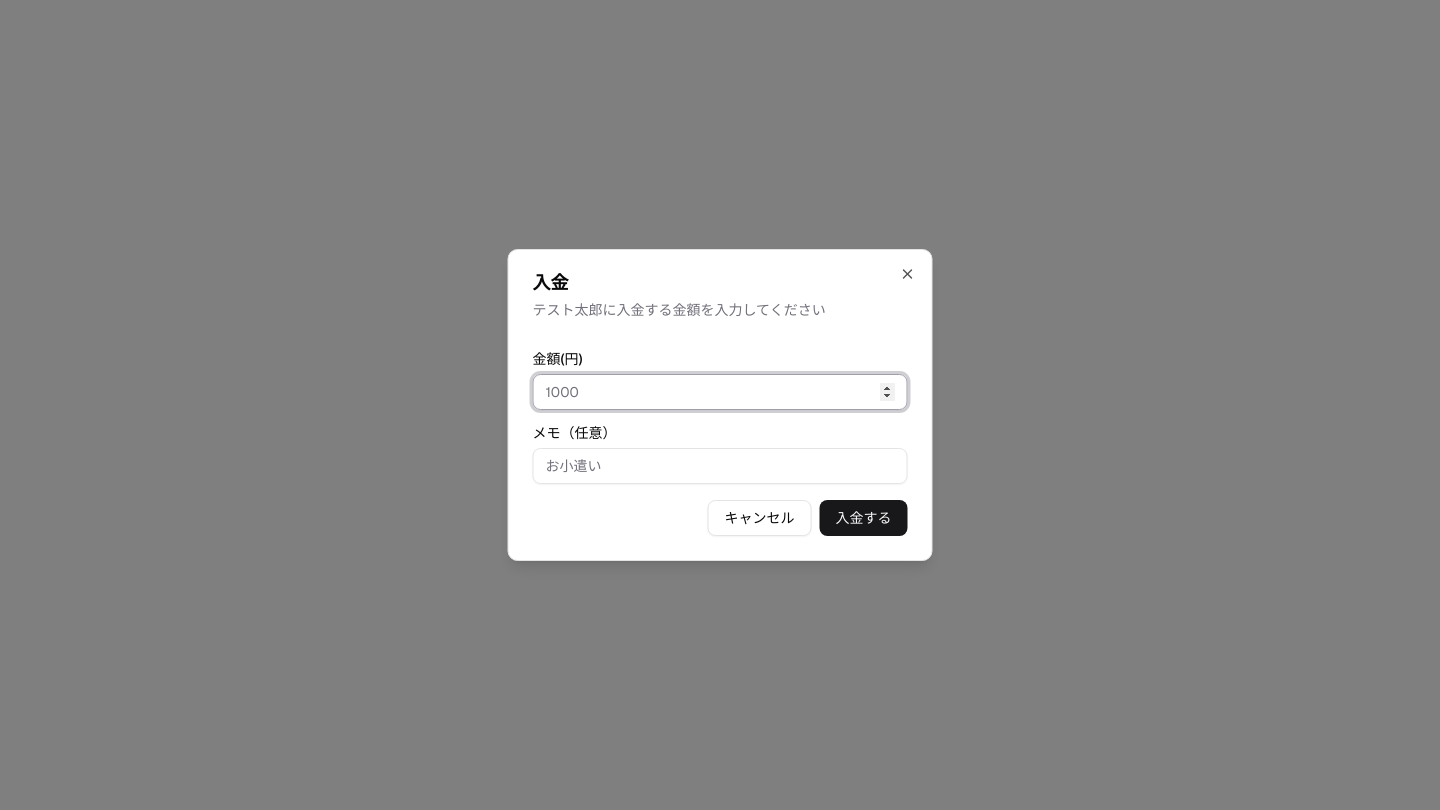
Test: DepositDialog › バリデーション: 金額が空の場合エラー表示
Click the button "入金する" at [864, 518], box [820,500,908,536]
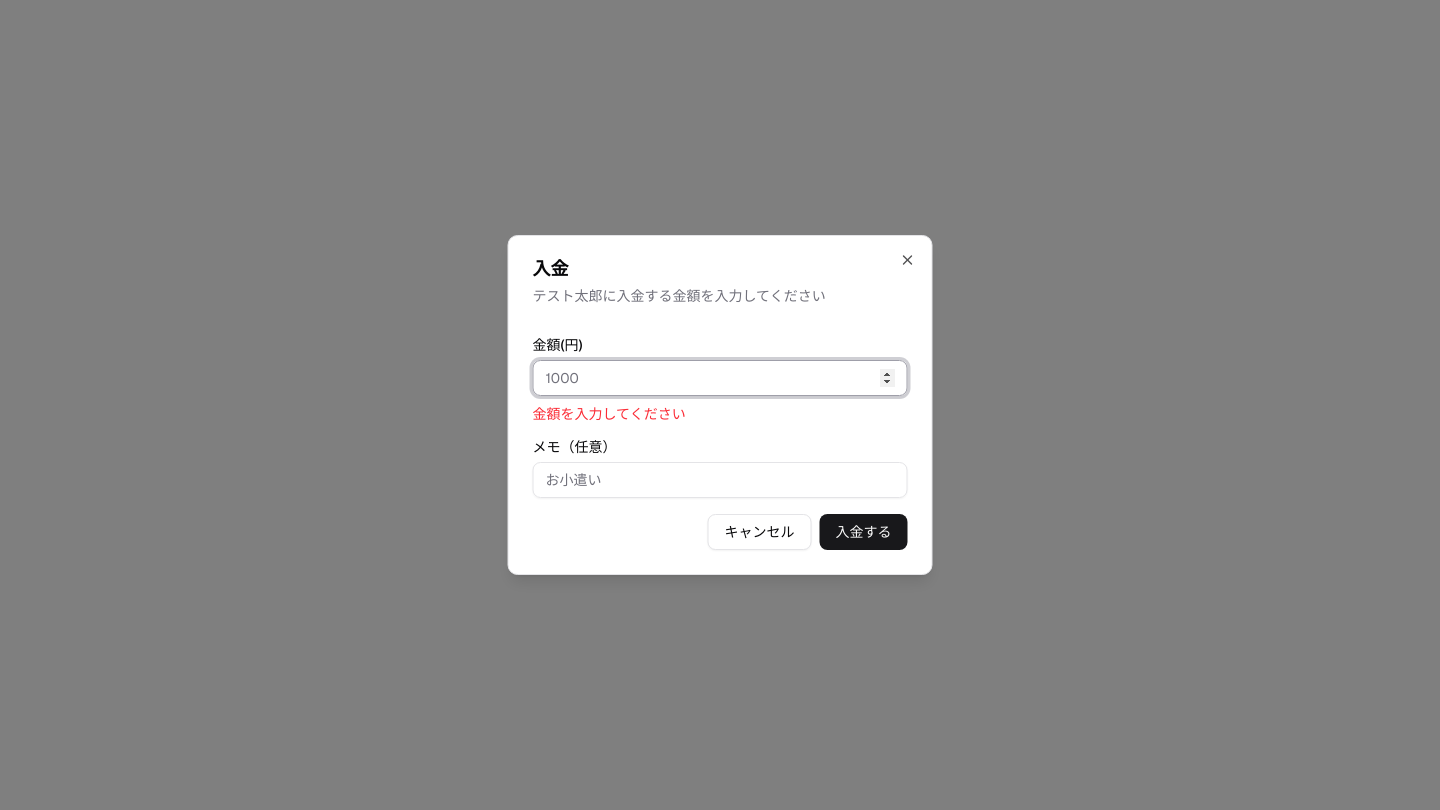
Now the text "金額を入力してください" is shown, box [532,405,686,423]
